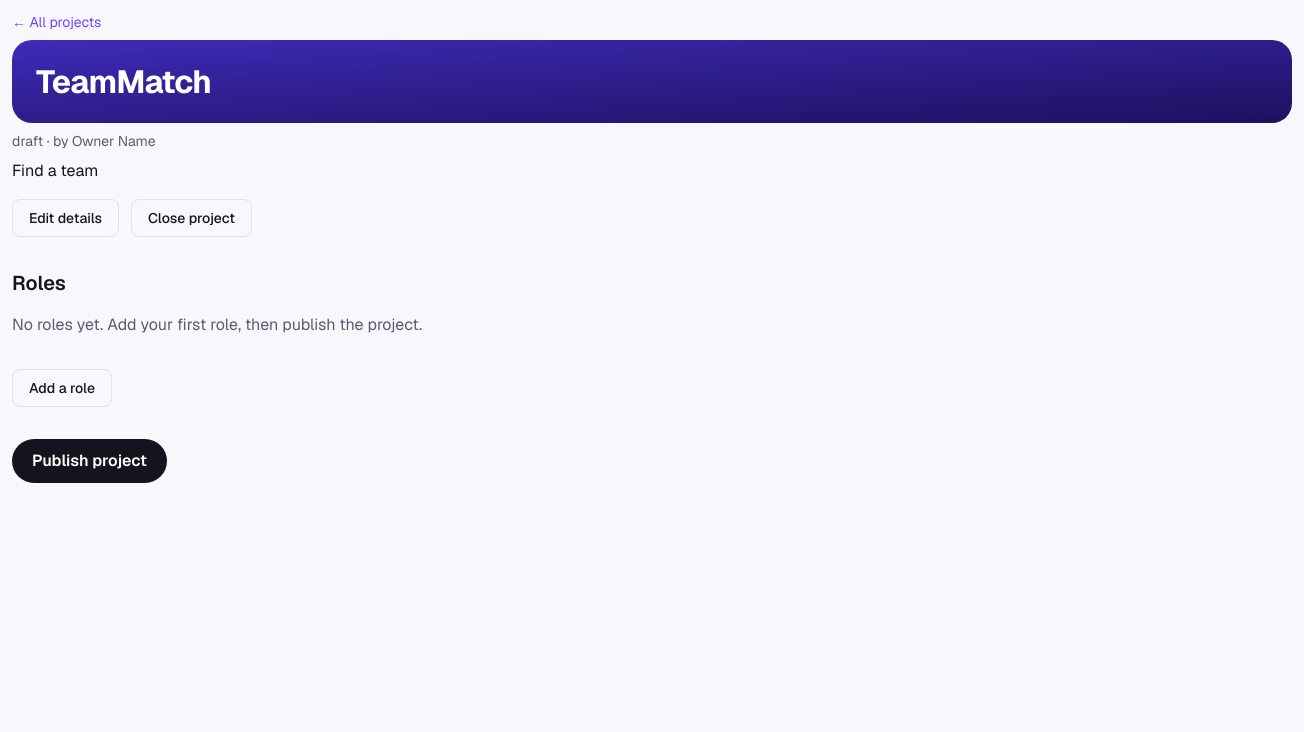
Test: cancel leaves the details as they were
Click the button "Edit details".
click(66, 218)  # box [12,199,119,237]
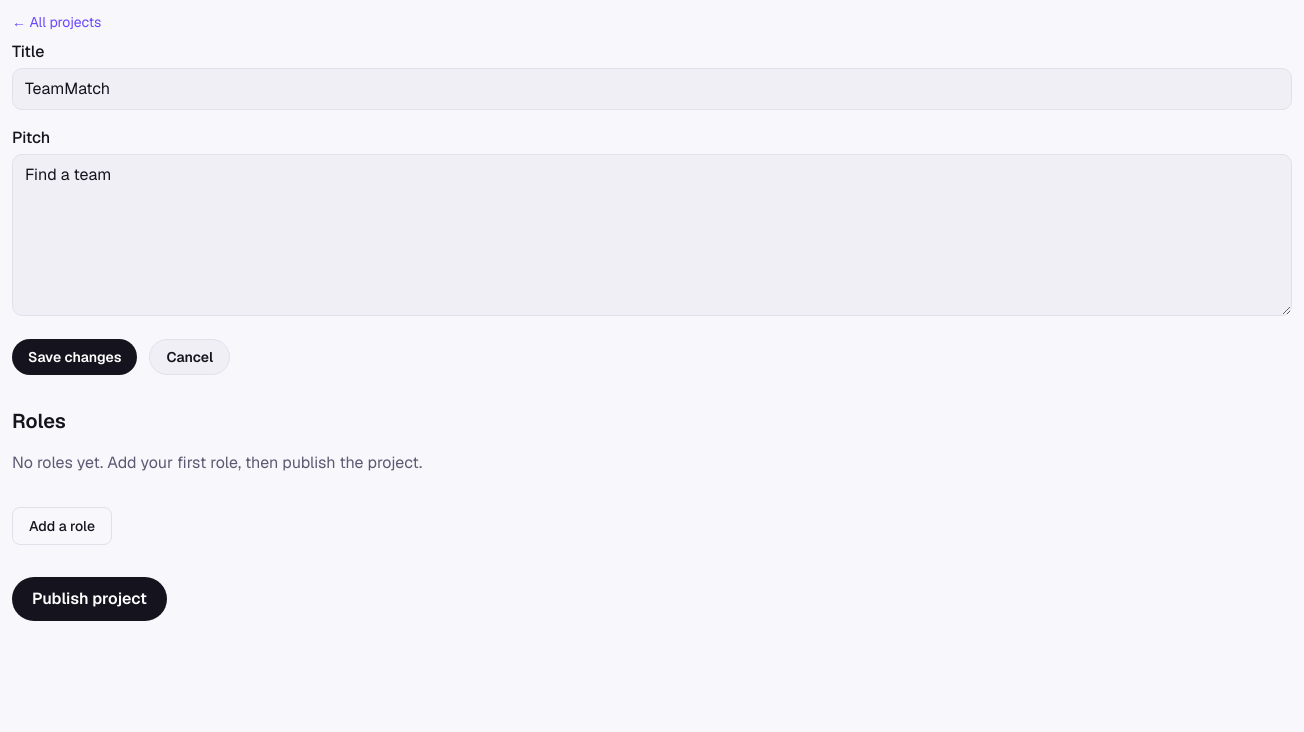
Replace the text in the field labelled "Title" with "Something else" at (652, 89), box [12,68,1292,110]
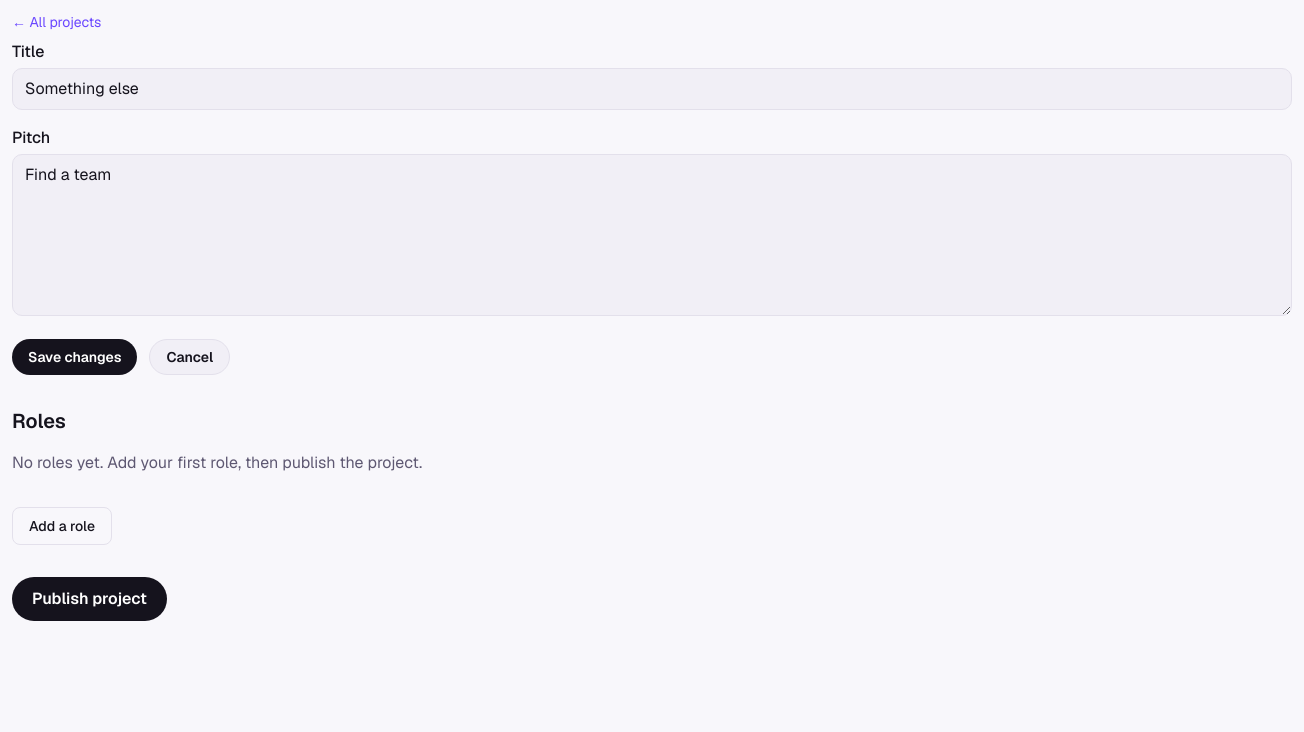
Click the button "Cancel".
click(190, 357)  # box [150,339,230,375]
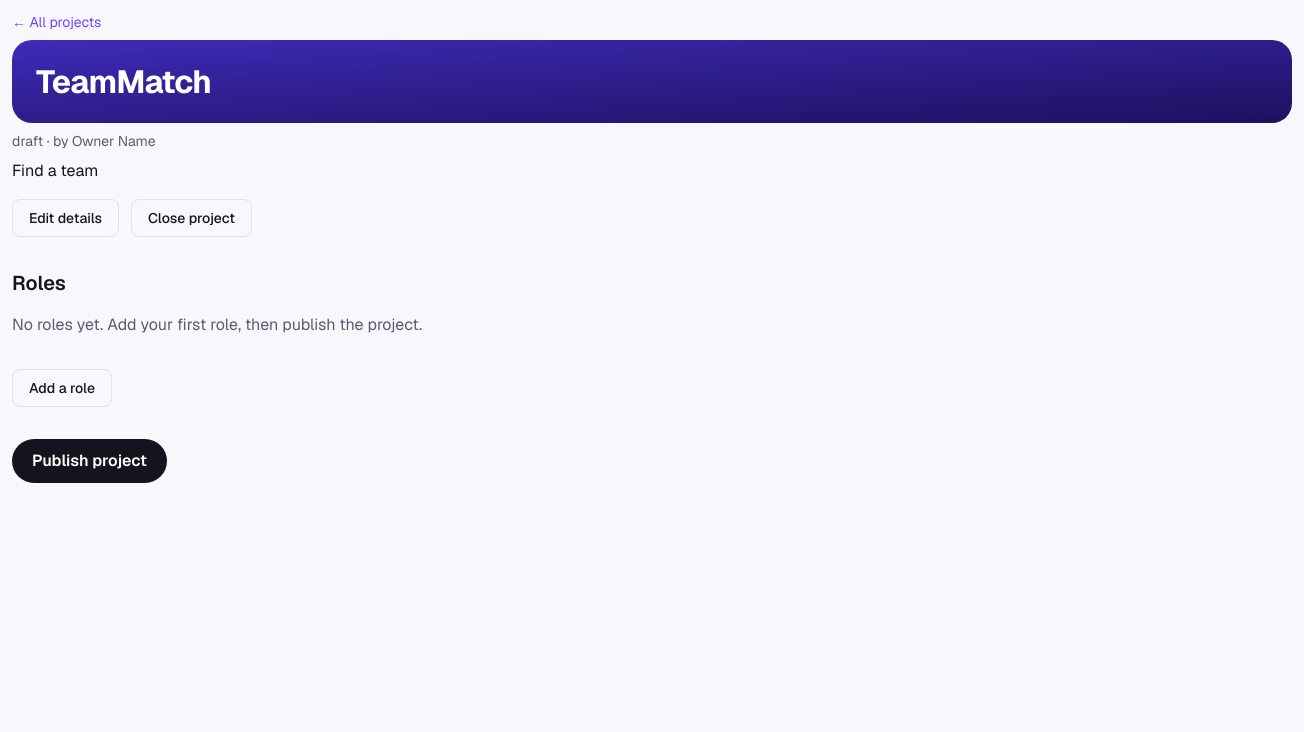
Expected: the heading "TeamMatch" is shown, [36,61,211,102]
